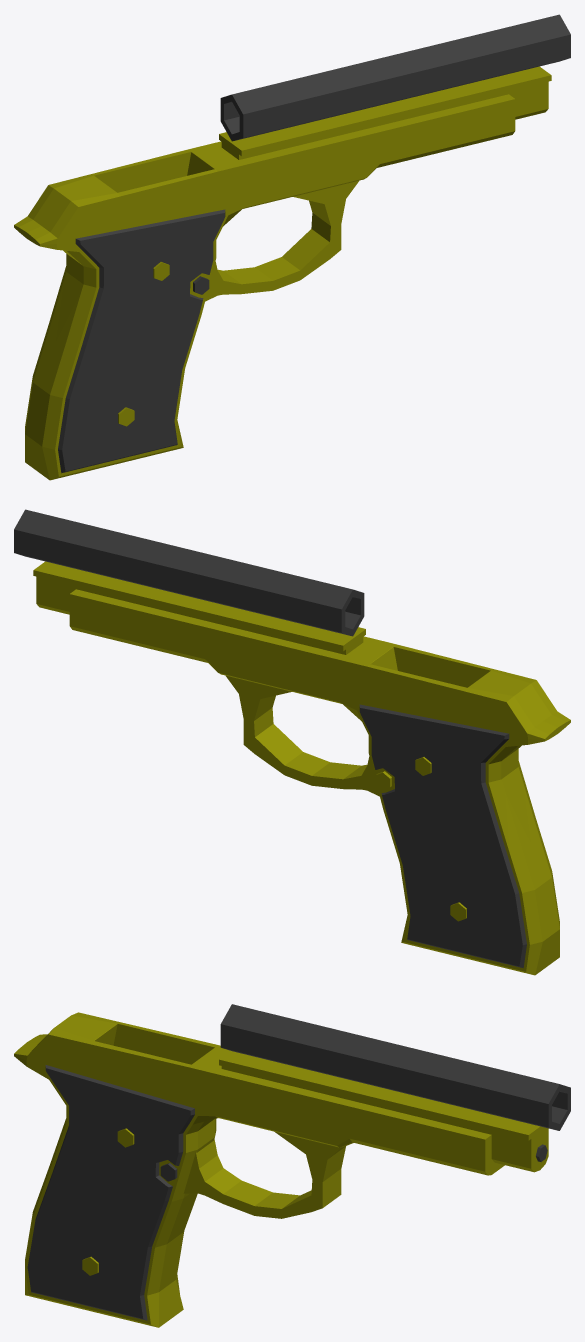
Rendered from Pistol1_04.fbx.
3 renders of one model, top to bottom at view 1: azimuth 30°, elevation 25°; view 2: azimuth 150°, elevation 25°; view 3: azimuth 330°, elevation 25°, orthographic.
Parts seen in each view (by area): view 1: Pistol1_04; view 2: Pistol1_04; view 3: Pistol1_04.
Boxes of the visible parts, <box> form: Pistol1_04: <box>14,14,570,480</box>; Pistol1_04: <box>14,509,570,975</box>; Pistol1_04: <box>14,1004,570,1327</box>.
Size of the model in its own units: 0.259 by 0.1531 by 0.031.
